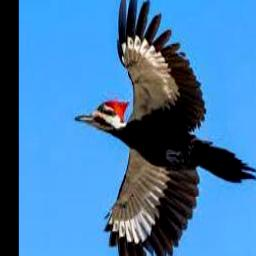Woodpecker: (74, 0, 256, 256)
